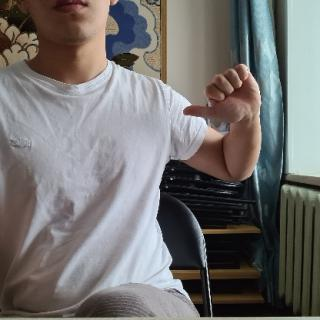DAD: (178, 60, 268, 125)
